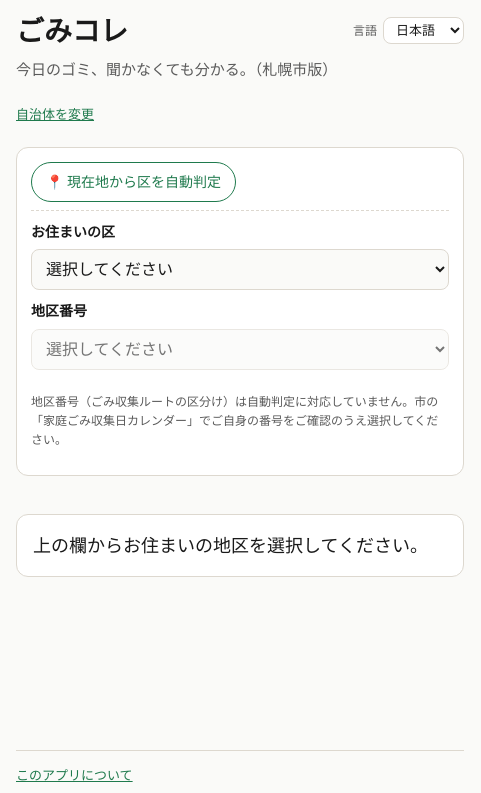
App › auto-detects the ward from geolocation and leaves the district for manual selection
Click the button "📍 現在地から区を自動判定" at (134, 182), box [31,162,236,202]
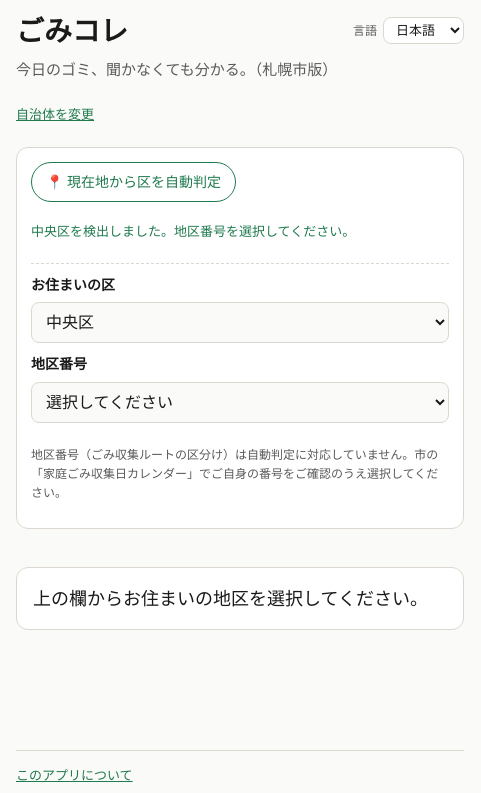
Result: the text "中央区を検出しました。地区番号を選択してください。" is shown at [31,222,355,240]
Result: the dropdown labelled "お住まいの区" shows "中央区" at [31,302,449,343]
Select "第1地区" in the dropdown labelled "地区番号" at (240, 402), box [31,382,449,423]
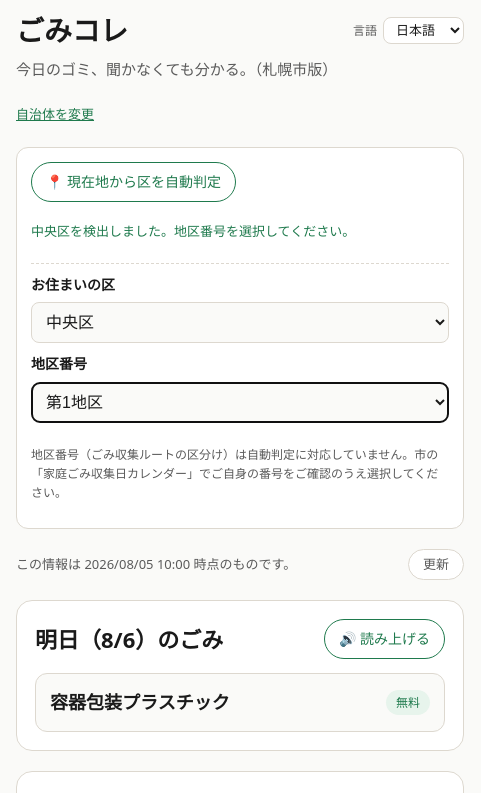
Result: the heading "明日（8/6）のごみ" is shown at [35,622,223,657]
